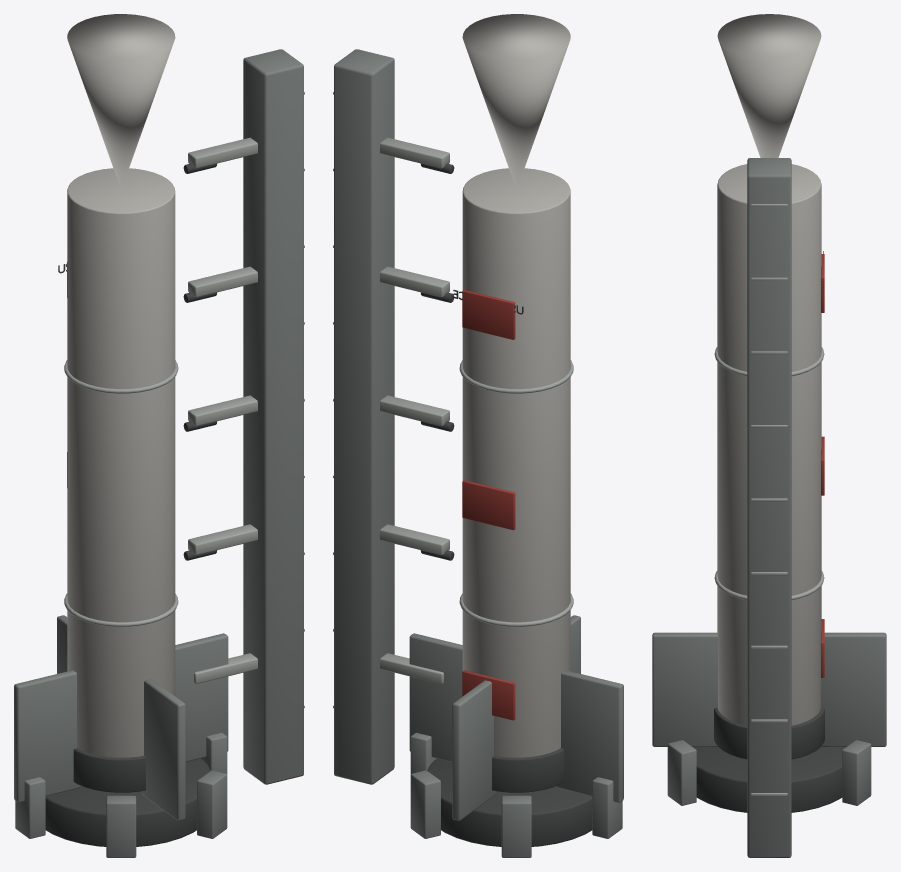
File: silo_missile_v3.glb
3 renders of one model, left to right at view 1: azimuth 30°, elevation 25°; view 2: azimuth 150°, elevation 25°; view 3: azimuth 270°, elevation 25°, orthographic. The views are drawn at different scales.
Visible parts, largest first — view 1: Missile_Body, Umbilical_Mast, Missile_Nose, Missile_Fin_2, Missile_MountRing, Missile_Fin_1, Missile_Fin_0, Missile_Skirt, Missile_MountLeg_2, Missile_MountLeg_1, Missile_MountLeg_3, Umbilical_Arm_2 (+8 smaller); view 2: Missile_Body, Umbilical_Mast, Missile_Nose, Missile_Fin_2, Missile_MountRing, Missile_Fin_0, Missile_Fin_3, Missile_Skirt, Missile_Band_1, Missile_Band_2, Missile_MountLeg_4, Missile_MountLeg_5 (+11 smaller); view 3: Missile_Body, Umbilical_Mast, Missile_Nose, Missile_Fin_1, Missile_Fin_3, Missile_MountRing, Missile_Skirt, Missile_MountLeg_1, Missile_MountLeg_5.
Part boxes in pixels (box(x1,y1,x2,y2)): Missile_Body: box(67, 168, 175, 757); Umbilical_Mast: box(243, 49, 303, 784); Missile_Nose: box(67, 14, 175, 189); Missile_Fin_2: box(14, 670, 81, 802); Missile_MountRing: box(45, 758, 210, 846); Missile_Fin_1: box(141, 679, 185, 820); Missile_Fin_0: box(175, 633, 228, 761); Missile_Skirt: box(73, 748, 145, 792); Missile_MountLeg_2: box(106, 795, 136, 857); Missile_MountLeg_1: box(197, 770, 227, 838); Missile_MountLeg_3: box(15, 777, 45, 838); Umbilical_Arm_2: box(188, 395, 257, 426); Missile_Body: box(462, 168, 570, 757); Umbilical_Mast: box(334, 49, 394, 784); Missile_Nose: box(462, 14, 570, 189); Missile_Fin_2: box(556, 670, 623, 802); Missile_MountRing: box(427, 758, 592, 846); Missile_Fin_0: box(409, 633, 462, 761); Missile_Fin_3: box(452, 680, 496, 820); Missile_Skirt: box(492, 748, 564, 792); Missile_Band_1: box(462, 480, 515, 530); Missile_Band_2: box(462, 290, 515, 339); Missile_MountLeg_4: box(501, 795, 531, 857); Missile_MountLeg_5: box(410, 770, 440, 838); Missile_Body: box(717, 164, 821, 725); Umbilical_Mast: box(747, 158, 791, 857); Missile_Nose: box(717, 14, 821, 157); Missile_Fin_1: box(652, 632, 717, 746); Missile_Fin_3: box(821, 632, 886, 746); Missile_MountRing: box(693, 747, 845, 812); Missile_Skirt: box(714, 708, 824, 759); Missile_MountLeg_1: box(667, 740, 696, 805); Missile_MountLeg_5: box(842, 740, 871, 805).
Size of the model in its own units: 4.77 by 12.6 by 3.6.
